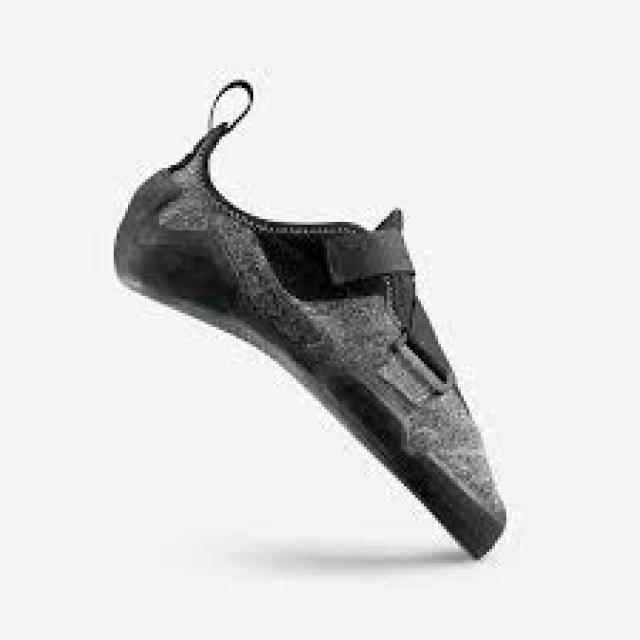climbing-shoes: (109, 84, 509, 562)
